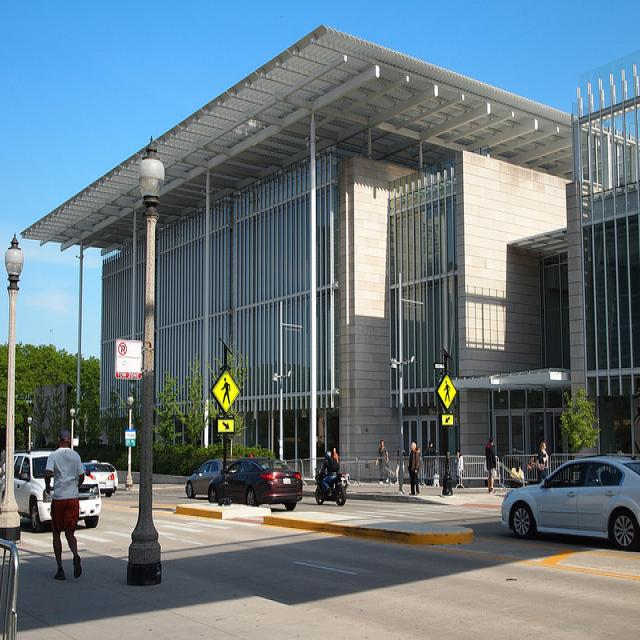motor: (315, 468, 350, 506)
